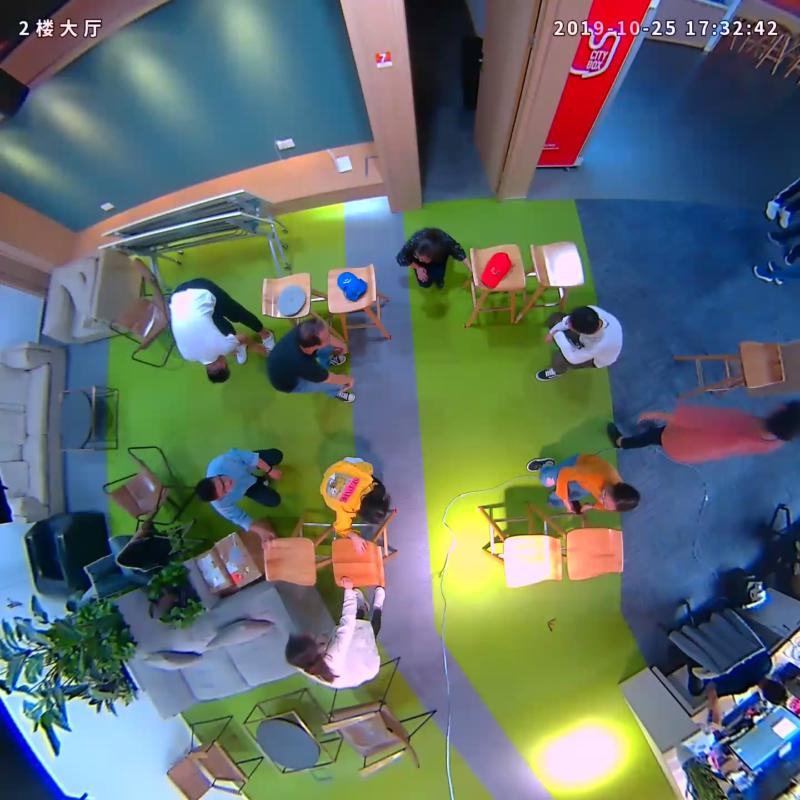head: (761, 395, 800, 449), (289, 314, 336, 358), (281, 629, 324, 675), (188, 471, 241, 506), (599, 477, 645, 517), (354, 487, 397, 529), (193, 354, 235, 391), (564, 301, 605, 338), (409, 231, 445, 269)
